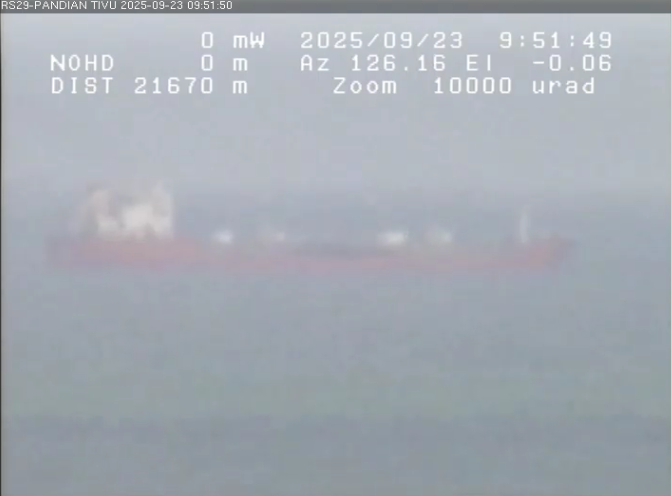CARGO_SHIPS: (18, 163, 623, 310)
